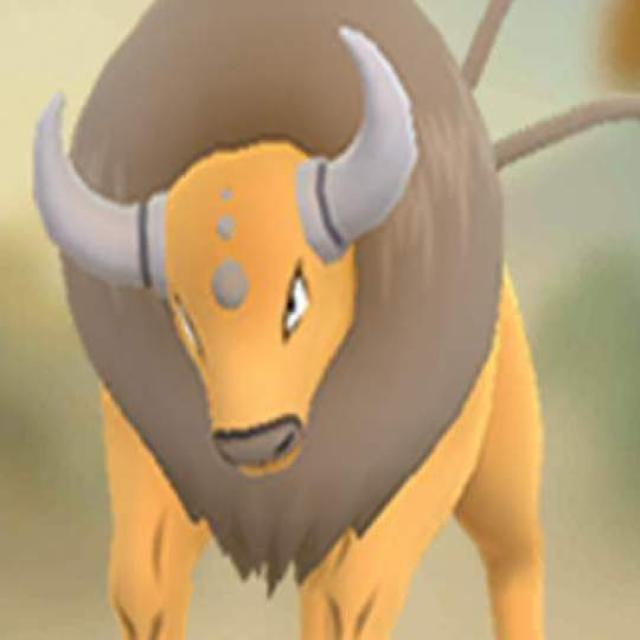Tauros: (38, 0, 514, 640)
